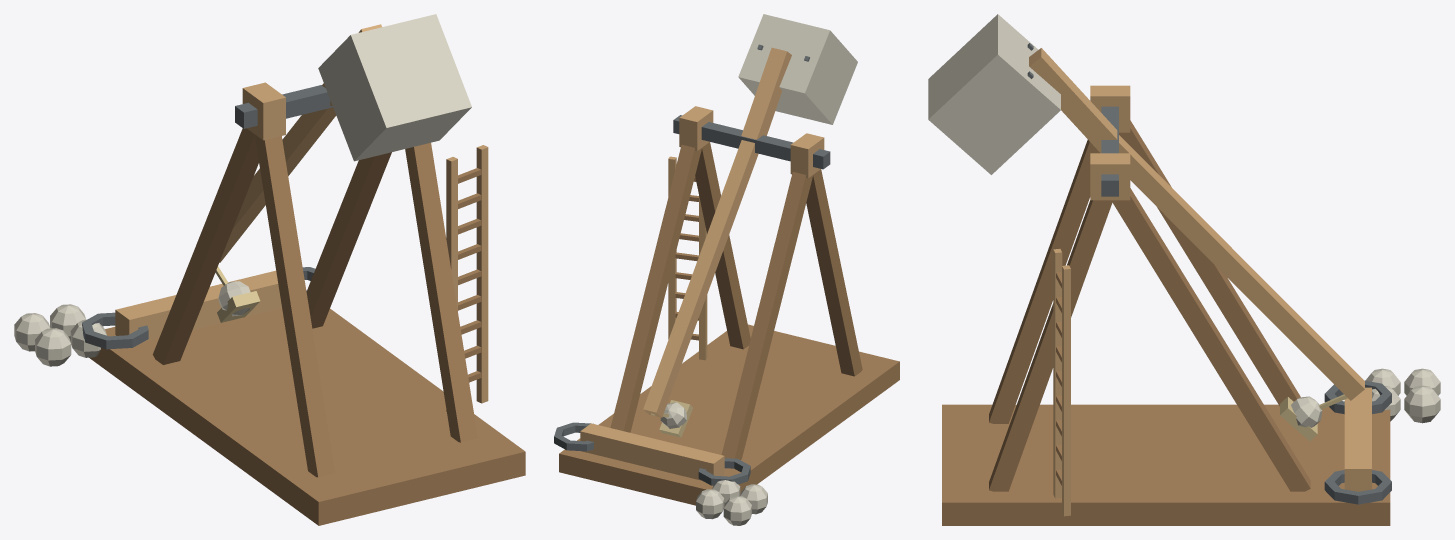
The model's file is medieval-siege-and-castle-defence-counterweight-trebuc-5c7b4bb4__28849.glb.
3 renders of one model, left to right at view 1: azimuth 30°, elevation 25°; view 2: azimuth 150°, elevation 25°; view 3: azimuth 270°, elevation 25°, orthographic. The views are drawn at different scales.
Parts seen in each view (by area): view 1: counterweight-trebuchet-armed; view 2: counterweight-trebuchet-armed; view 3: counterweight-trebuchet-armed.
Part boxes in pixels (box(x1,y1,x2,y2)): counterweight-trebuchet-armed: box(14, 14, 525, 525); counterweight-trebuchet-armed: box(554, 14, 899, 525); counterweight-trebuchet-armed: box(928, 14, 1440, 525).
Bounding box in the file's own units: 4.04 × 6.1 × 6.4.
